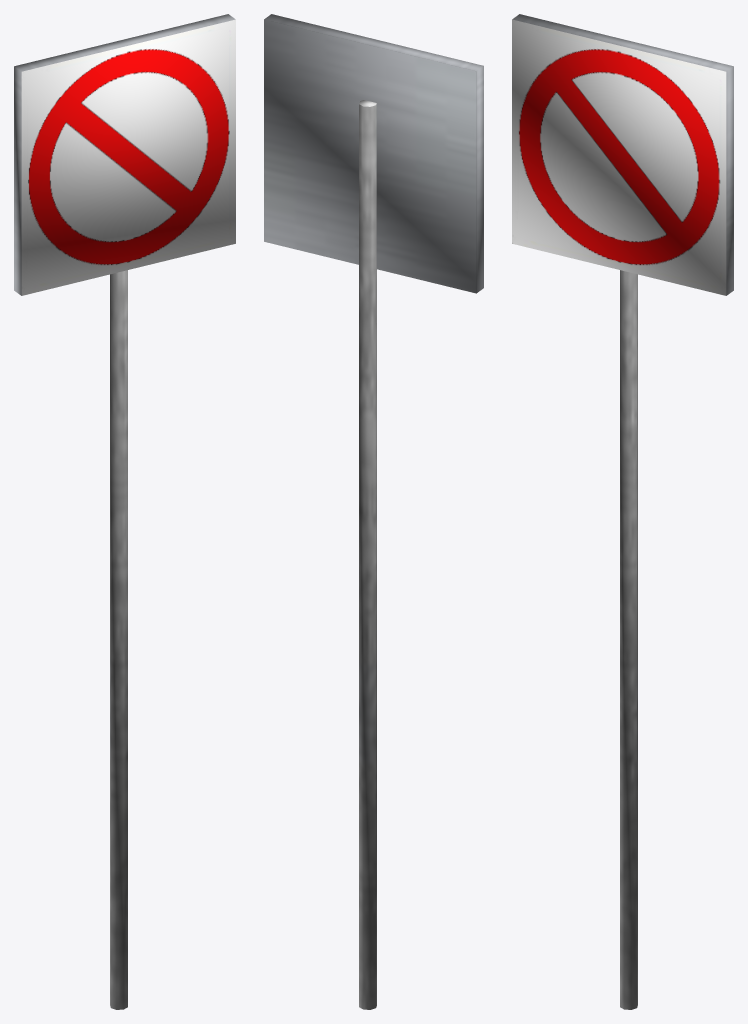
The model's file is Sign4.fbx.
3 renders of one model, left to right at view 1: azimuth 30°, elevation 25°; view 2: azimuth 150°, elevation 25°; view 3: azimuth 330°, elevation 25°, orthographic.
Visible parts, largest first — view 1: Cylinder; view 2: Cylinder; view 3: Cylinder.
Part boxes in pixels (x1,y1,x2,y2): Cylinder: [14, 14, 235, 1009]; Cylinder: [264, 14, 483, 1009]; Cylinder: [512, 14, 733, 1009].
Size of the model in its own units: 1.66 by 7.18 by 0.1936.
1 material, 1 textured.
